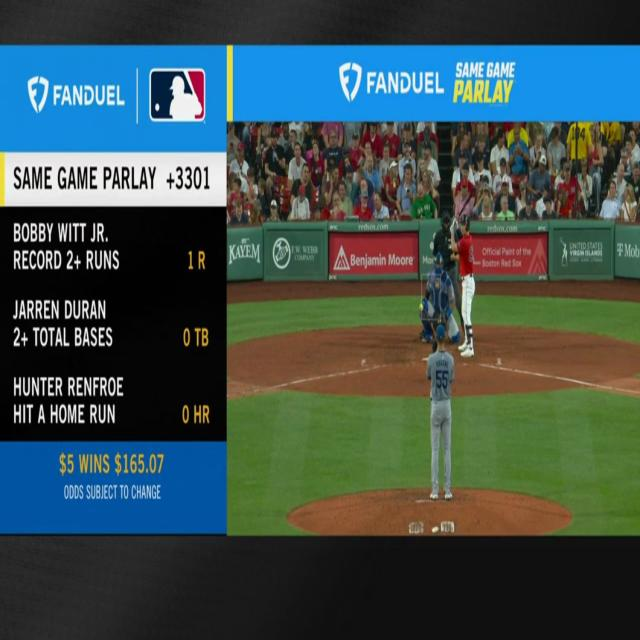Bat: (451, 189, 479, 224)
